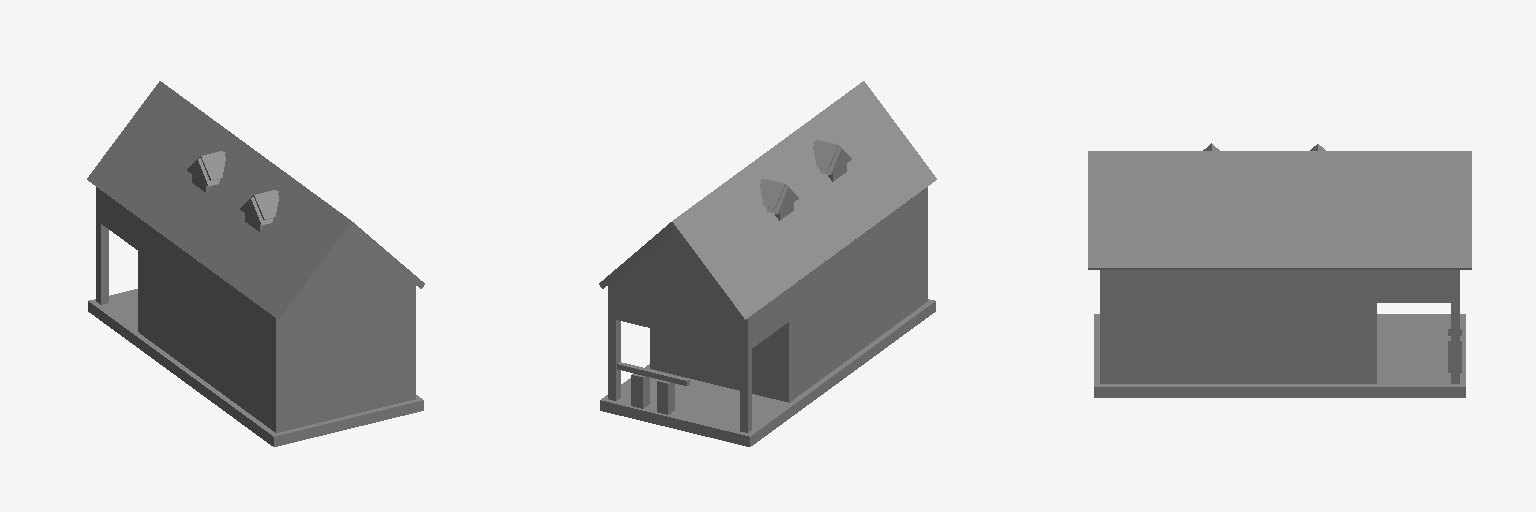
Rendered from Hous_3_Cut.obj.
The picture shows the model from 3 angles: view 1: azimuth 30°, elevation 25°; view 2: azimuth 150°, elevation 25°; view 3: azimuth 270°, elevation 25°; orthographic projection.
Visible parts, largest first — view 1: Hause3_R, Hause1_T; view 2: Hause3_R, Hause1_T; view 3: Hause3_R, Hause1_T.
Boxes of the visible parts, box(x1,y1,x2,y2) form: Hause3_R: box(87, 81, 424, 351); Hause1_T: box(88, 220, 423, 446); Hause3_R: box(599, 81, 936, 351); Hause1_T: box(600, 220, 935, 446); Hause3_R: box(1088, 143, 1471, 302); Hause1_T: box(1094, 303, 1465, 397).
Size of the model in its own units: 4.44 by 5.94 by 9.84.